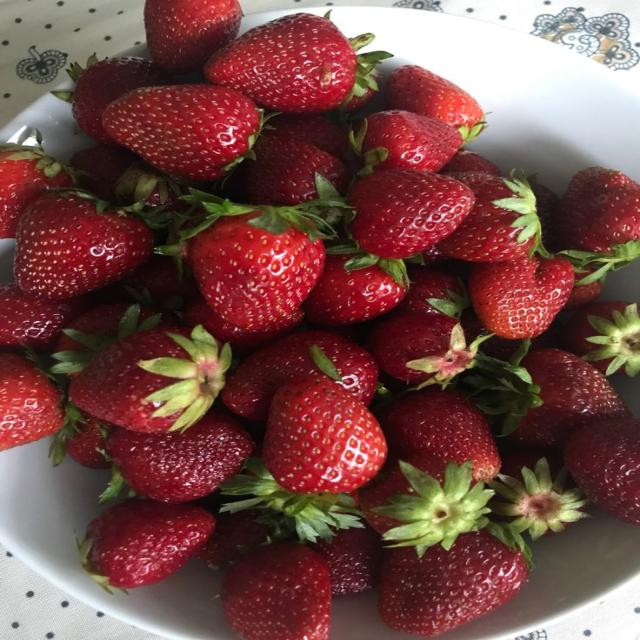strawberry: (187, 206, 324, 330), (69, 327, 231, 431), (379, 531, 527, 637), (205, 14, 357, 113), (14, 192, 153, 300), (103, 85, 260, 180), (263, 376, 386, 493), (222, 331, 378, 420), (107, 410, 253, 502), (359, 454, 493, 552), (209, 458, 360, 542), (80, 500, 215, 590), (377, 387, 500, 482), (511, 349, 628, 446), (348, 169, 474, 258), (221, 543, 331, 639), (56, 55, 168, 142), (468, 256, 574, 339), (440, 177, 541, 262), (234, 136, 350, 206), (490, 457, 587, 539), (564, 417, 639, 523), (53, 303, 159, 377), (369, 312, 477, 384), (304, 255, 406, 326), (145, 0, 242, 73), (386, 66, 483, 138), (557, 168, 639, 253), (184, 298, 303, 355), (0, 146, 73, 238), (354, 110, 462, 171), (0, 353, 63, 450), (0, 284, 88, 349), (564, 301, 639, 375), (314, 525, 382, 596), (120, 255, 199, 310), (198, 511, 272, 568), (70, 143, 139, 200), (394, 265, 468, 317), (261, 114, 348, 157), (114, 162, 184, 210), (54, 416, 113, 469), (532, 181, 564, 251), (500, 446, 563, 477), (442, 149, 500, 176), (564, 274, 602, 309), (442, 171, 495, 191), (480, 336, 522, 360), (480, 336, 521, 360), (421, 245, 447, 265)
